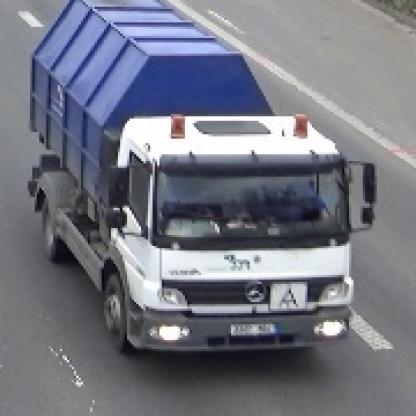truck: (28, 1, 373, 354)
